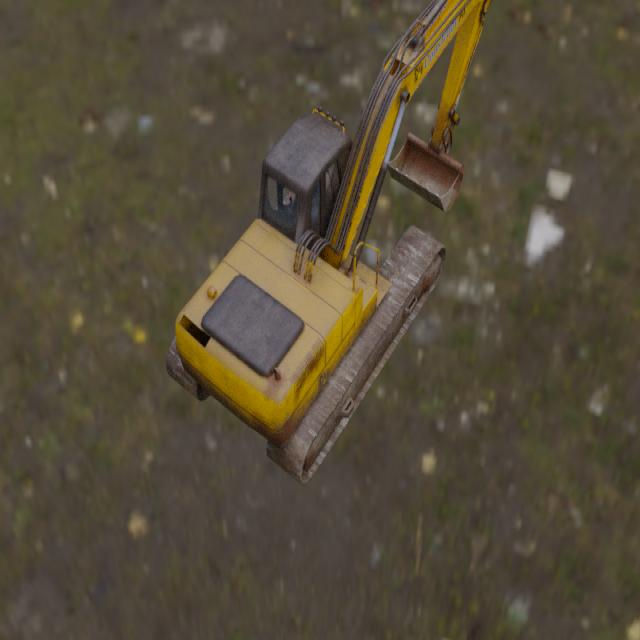excavator: (166, 0, 492, 487)
